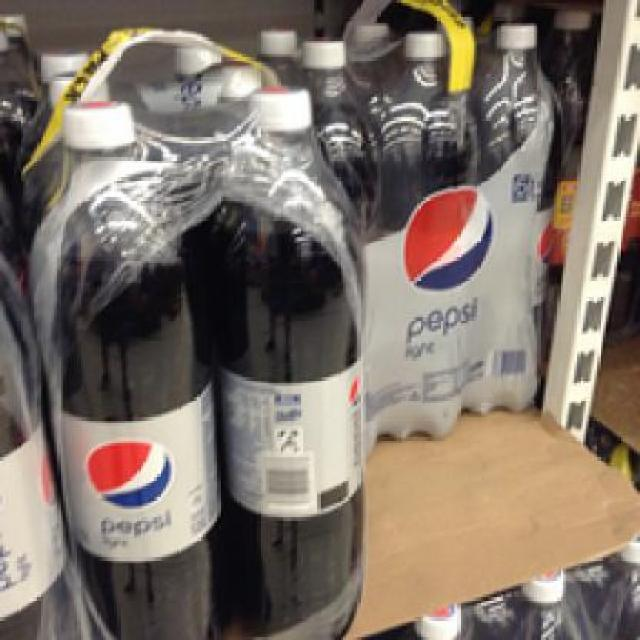Soda: (25, 94, 232, 637), (206, 82, 357, 638), (377, 28, 477, 434), (468, 17, 554, 412)
